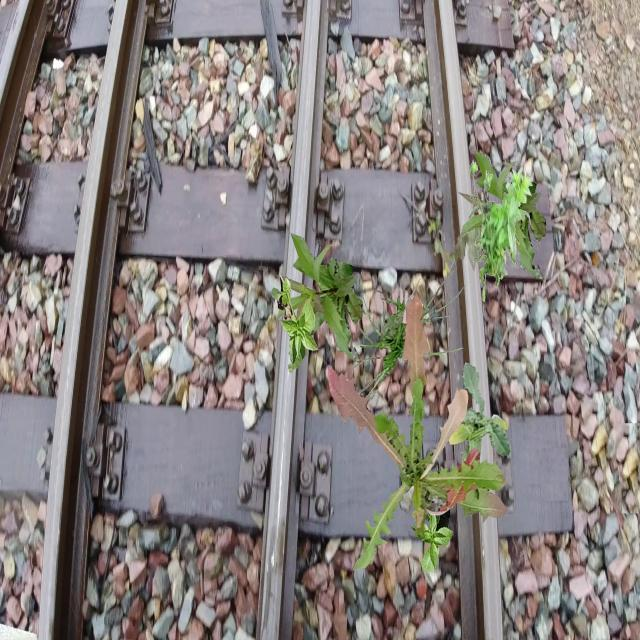Plant: (328, 293, 508, 571), (347, 254, 466, 418), (274, 233, 362, 363), (458, 151, 546, 281), (469, 159, 534, 302), (448, 362, 510, 486), (428, 210, 514, 278), (271, 275, 319, 370), (411, 493, 453, 573), (288, 341, 308, 374)
